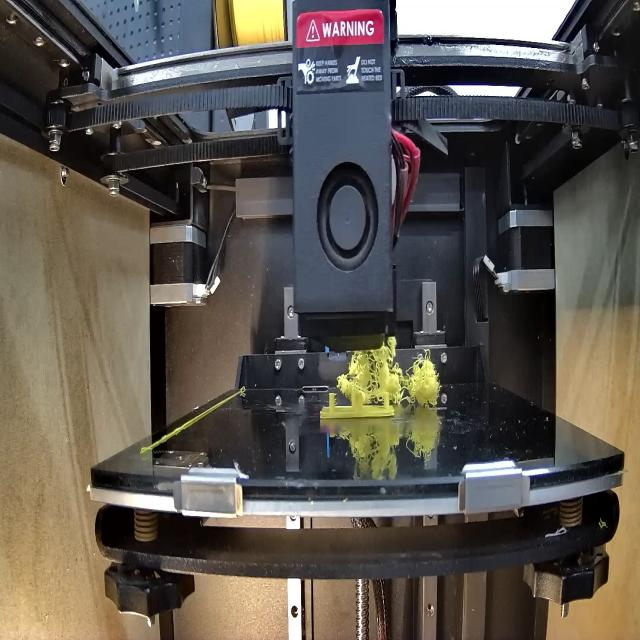spaghetti: (340, 335, 441, 405)
